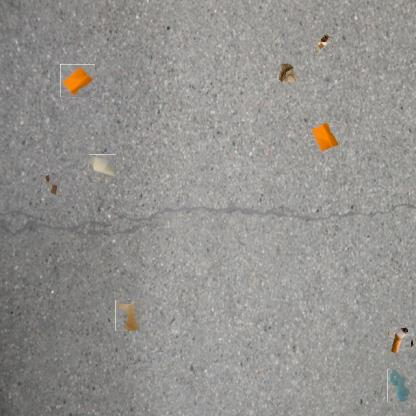dirty: (61, 64, 94, 98), (308, 121, 340, 153), (388, 326, 414, 352), (90, 153, 115, 179), (42, 172, 62, 198), (312, 32, 334, 54), (279, 62, 297, 82)
liquid: (115, 299, 140, 331), (387, 368, 410, 402)
